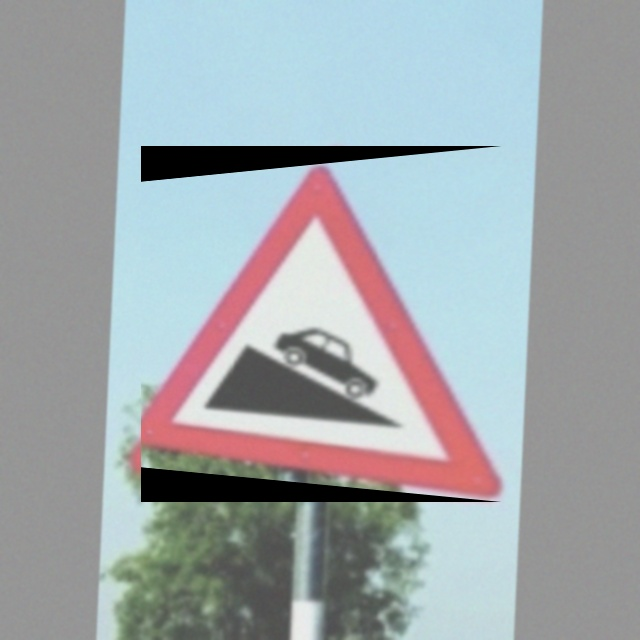Steep_Descent: (141, 146, 502, 502)
